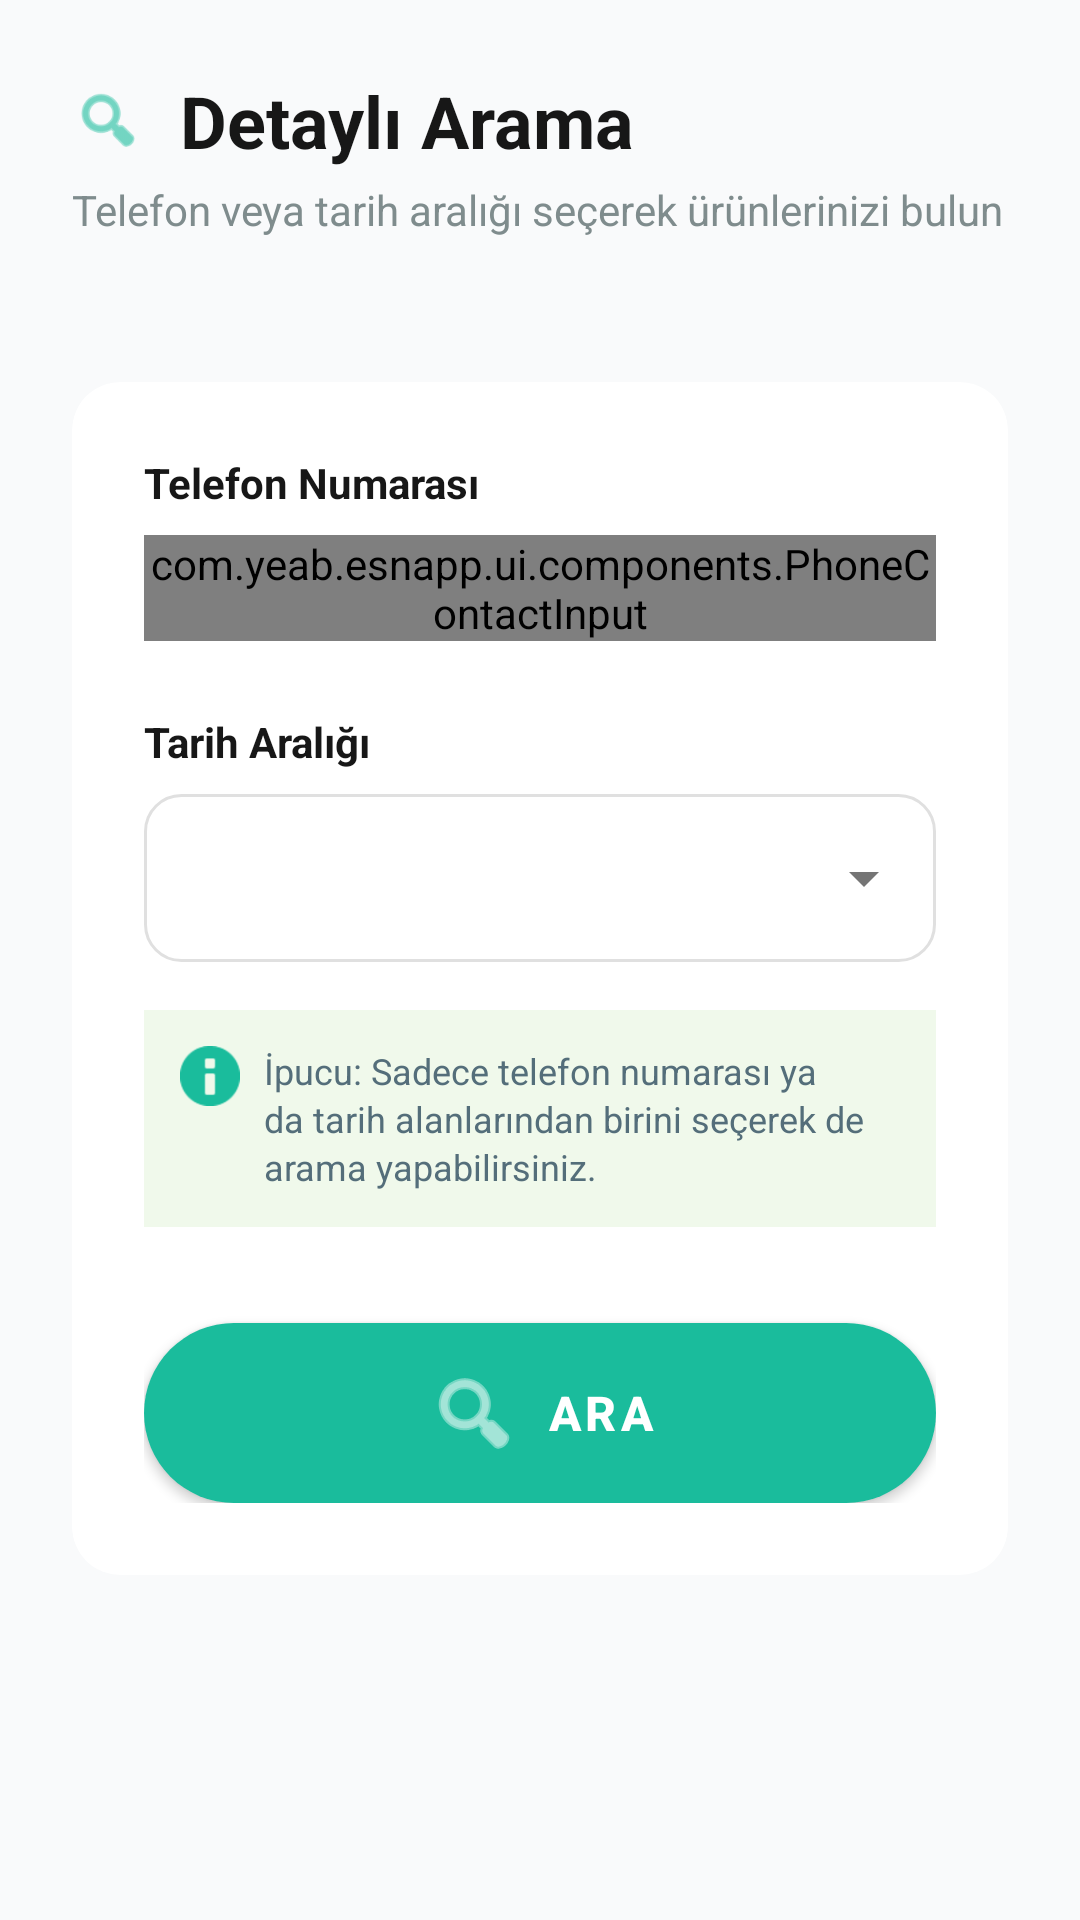

Where icons sit on this 1080*1920 app screen, as bbox=[x1, y1, x2, y2]:
info: bbox=[180, 1046, 240, 1106]
search: bbox=[81, 94, 135, 147]
